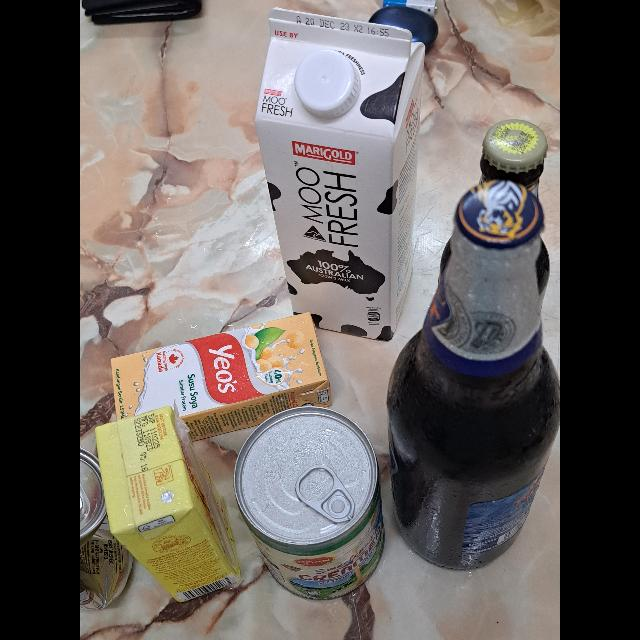aba de lata: (294, 464, 356, 524)
caixinha: (256, 8, 427, 342), (95, 408, 242, 606), (110, 312, 332, 442)
garrafa de vidro: (382, 180, 560, 570), (438, 116, 550, 314)
lata: (232, 407, 384, 601), (80, 450, 136, 610)
tampa plástica: (295, 50, 361, 120)
